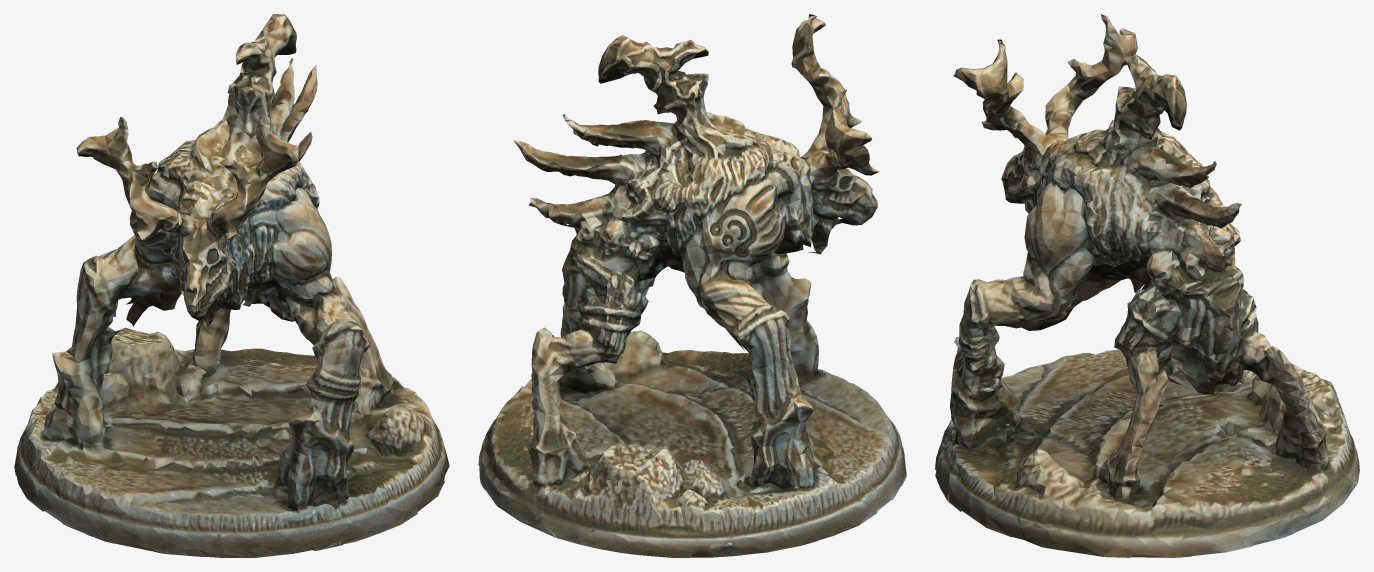
File: horned_warden.glb
3 renders of one model, left to right at view 1: azimuth 30°, elevation 25°; view 2: azimuth 150°, elevation 25°; view 3: azimuth 270°, elevation 25°, orthographic.
Visible parts, largest first — view 1: geometry_0; view 2: geometry_0; view 3: geometry_0.
Part boxes in pixels (x1,y1,x2,y2): geometry_0: [14, 14, 449, 557]; geometry_0: [478, 14, 906, 557]; geometry_0: [935, 14, 1359, 557].
Bounding box in the file's own units: 0.0265 × 0.029 × 0.0265.
1 material, 1 textured.
